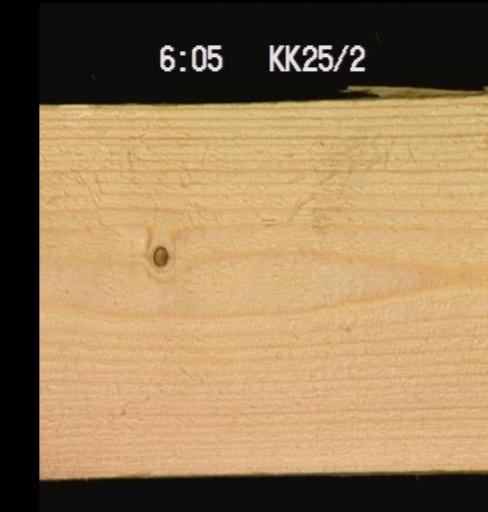dry_knot: (149, 242, 169, 267)
